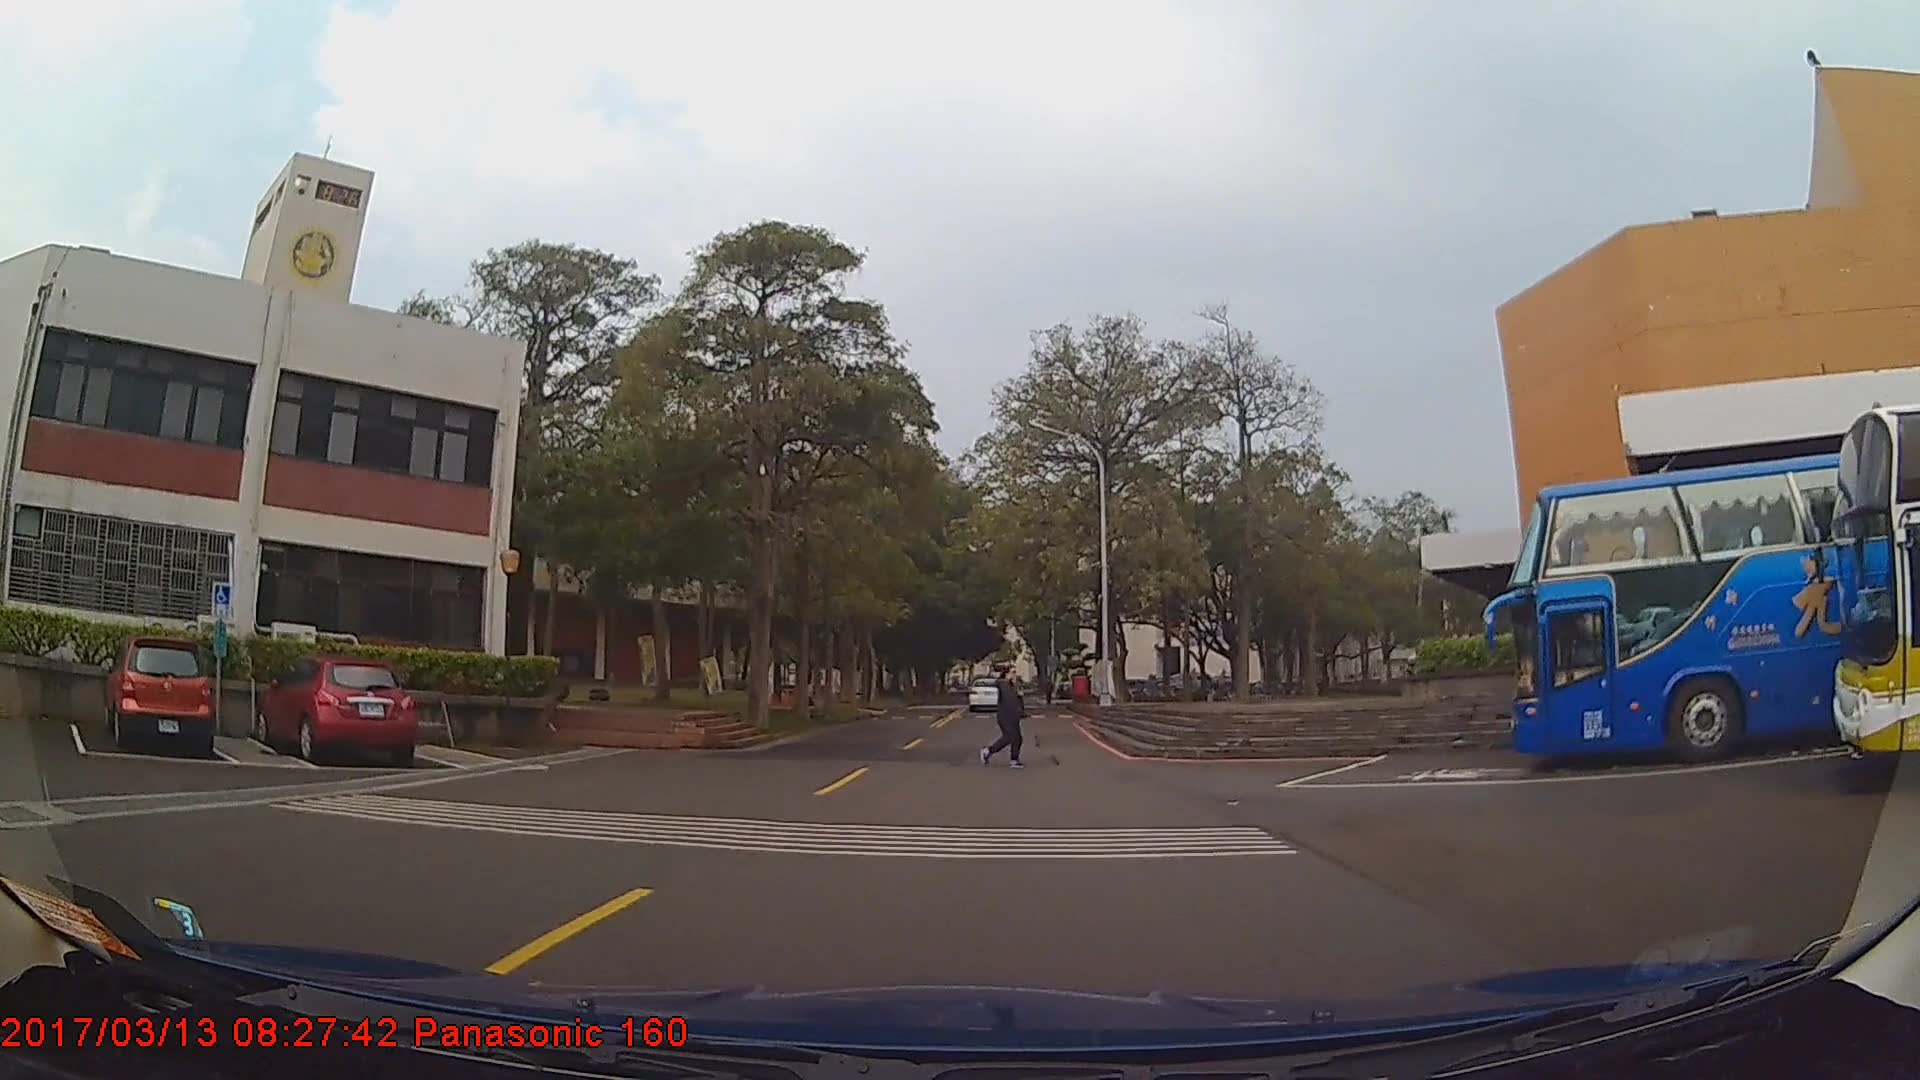pedestrian: (979, 662, 1038, 773)
vehicle: (1509, 435, 1920, 767), (251, 658, 413, 767), (103, 638, 213, 753), (969, 673, 1009, 710)
